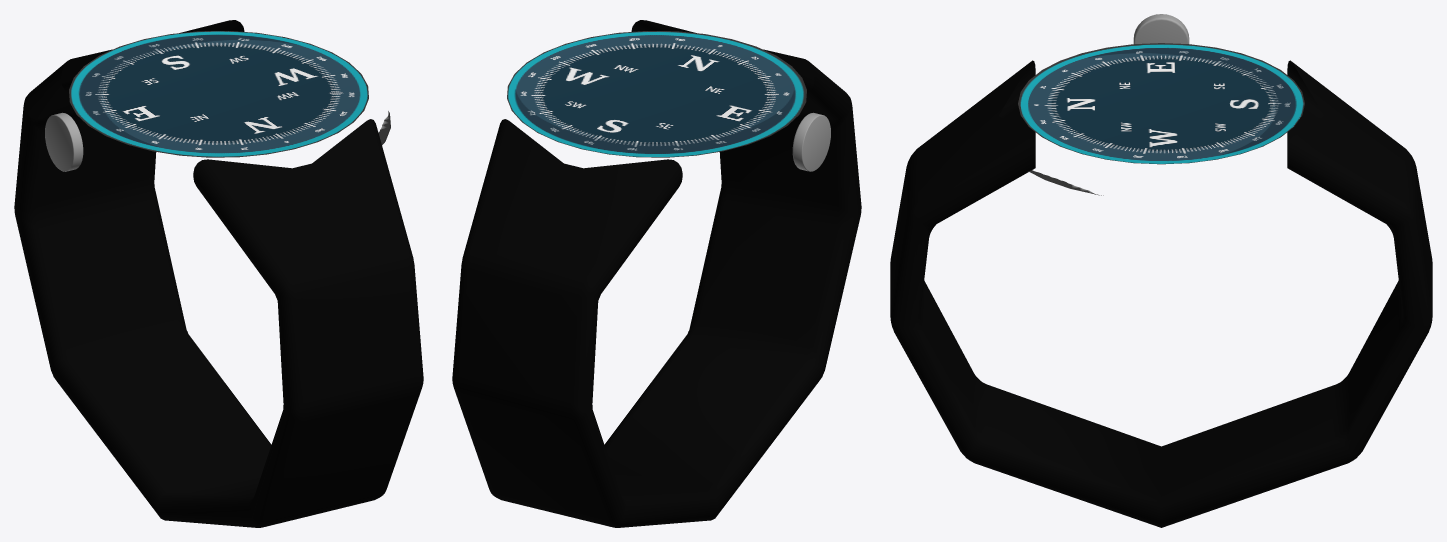
The model's file is montre_texturé2.fbx.
3 views of the same model, side by side, from view 1: azimuth 30°, elevation 25°; view 2: azimuth 150°, elevation 25°; view 3: azimuth 270°, elevation 25° (orthographic). The views are drawn at different scales.
Visible parts, largest first — view 1: Cube, Cylinder, Cylinder.001; view 2: Cube, Cylinder, Cylinder.001; view 3: Cube, Cylinder, Cylinder.001.
Part boxes in pixels (x1=…): Cube: x1=14, y1=20, x2=423, y2=527; Cylinder: x1=69, y1=31, x2=390, y2=157; Cylinder.001: x1=45, y1=112, x2=83, y2=171; Cube: x1=452, y1=20, x2=861, y2=527; Cylinder: x1=507, y1=31, x2=806, y2=157; Cylinder.001: x1=792, y1=112, x2=830, y2=171; Cube: x1=890, y1=60, x2=1432, y2=527; Cylinder: x1=1018, y1=43, x2=1304, y2=195; Cylinder.001: x1=1133, y1=14, x2=1189, y2=43.
Size of the model in its own units: 206 by 272 by 326.
3 materials, 1 textured.
